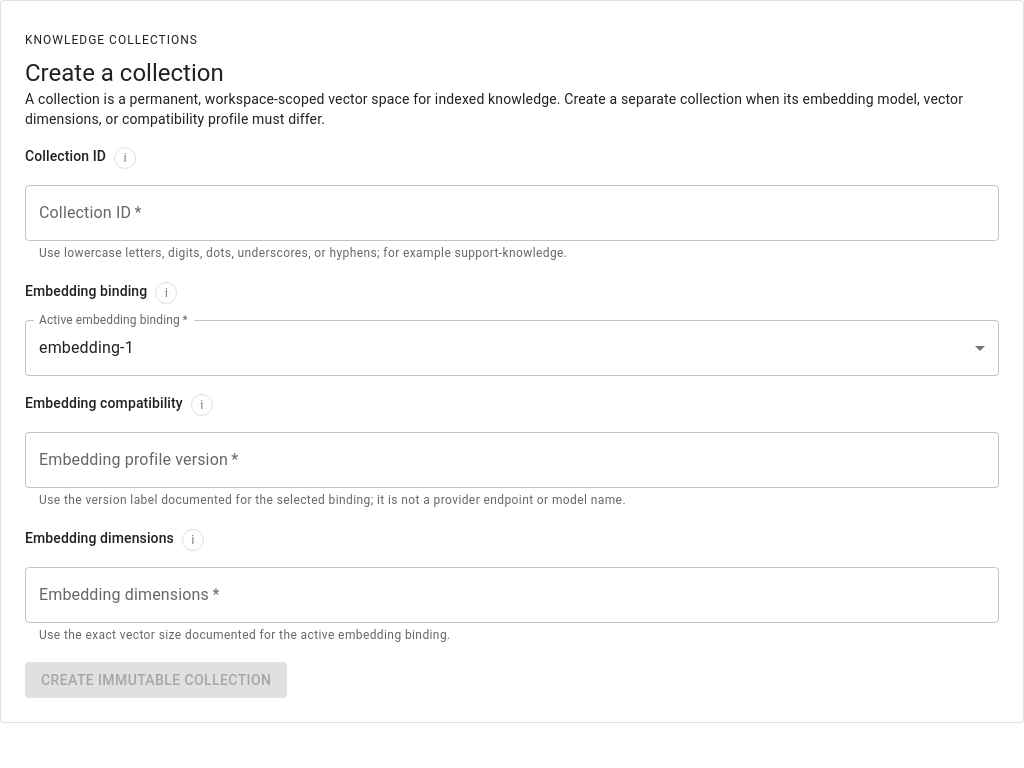
it: KnowledgeCollectionAuthoring › explains the permanent vector-space fields through accessible information controls
The width and height of the screenshot is (1024, 768).
Expected: the dropdown named "Active embedding binding" reads "embedding-1", [39,338,134,357]
What coordinates should you click on to do the following:
click the button named "Help for Embedding dimensions"
I would click on:
 (193, 540)
Its box is [182,528,204,550].
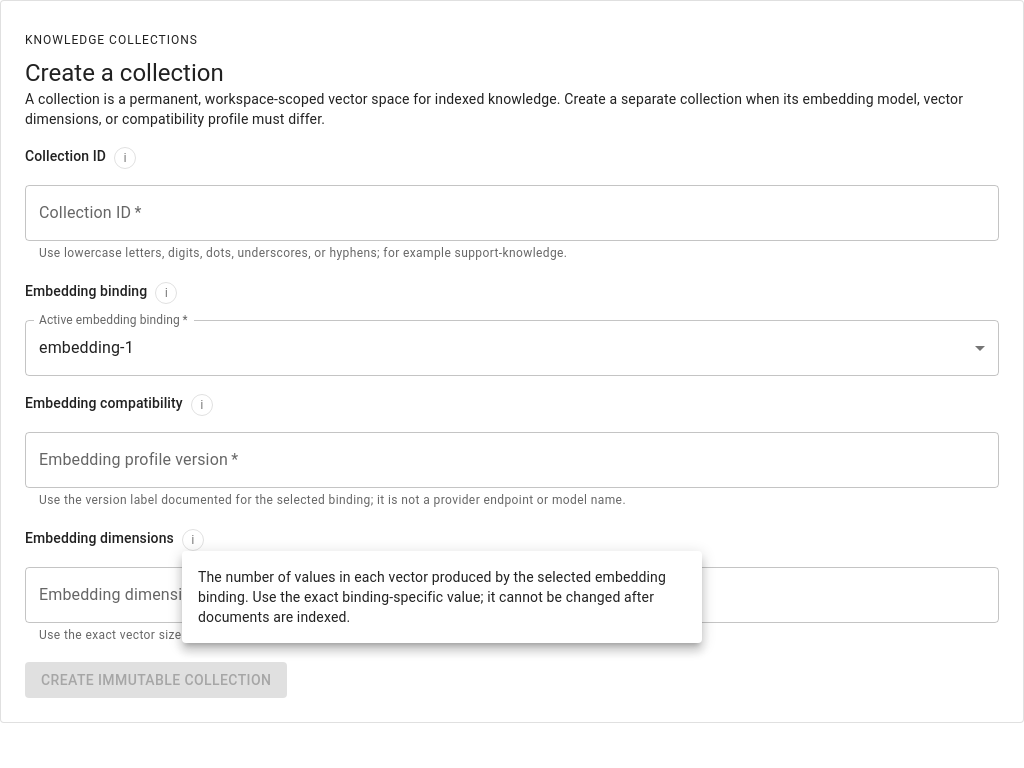
Result: the text "number of values in each vector" is shown at [198,569,666,625]
